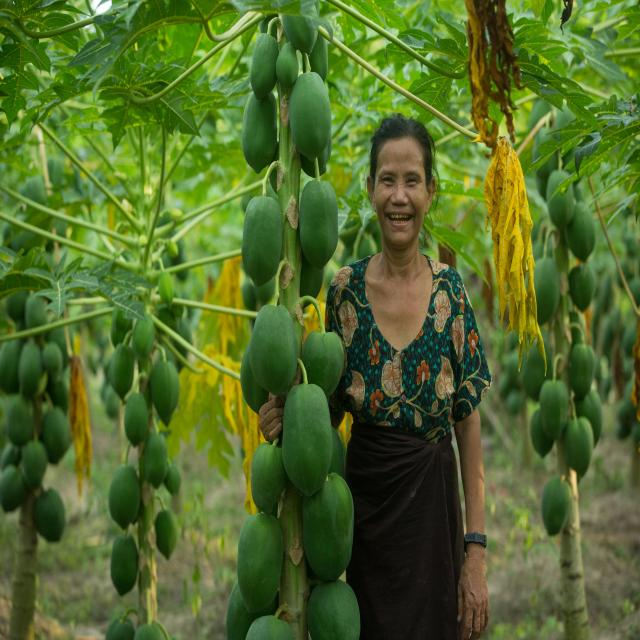Pepaya unrippen: (287, 393, 331, 502), (290, 61, 333, 169), (309, 481, 350, 592), (297, 172, 343, 268), (231, 522, 277, 610), (235, 192, 277, 288), (238, 93, 284, 178), (258, 306, 297, 398), (105, 535, 142, 600), (250, 448, 284, 516), (526, 260, 560, 326), (151, 360, 181, 428), (111, 469, 141, 536), (571, 205, 598, 278), (541, 481, 571, 544), (563, 418, 593, 479), (539, 376, 571, 433), (309, 335, 337, 399), (248, 46, 278, 94), (571, 345, 597, 398), (122, 398, 147, 448), (154, 510, 179, 559)
